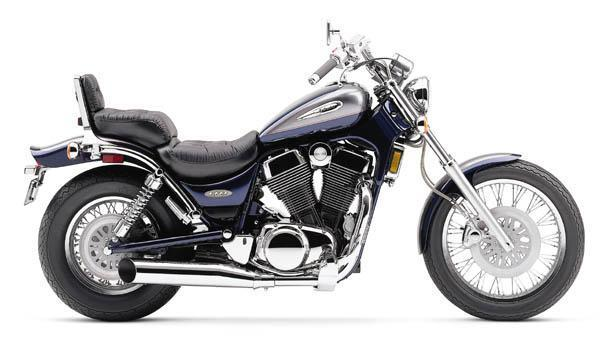motorcycle: (9, 5, 607, 340)
